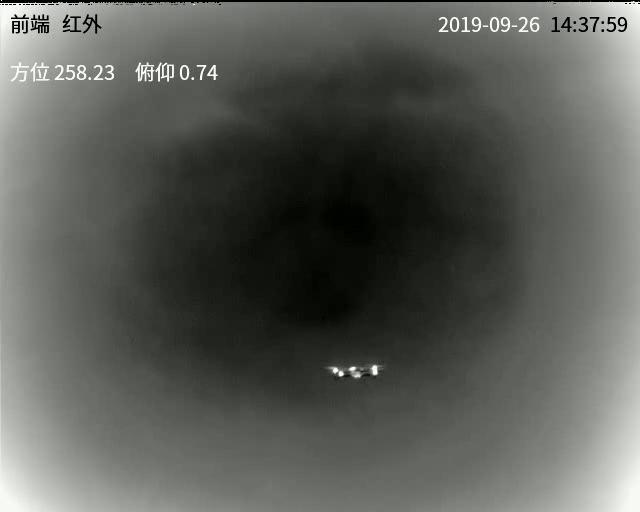DRONE: (328, 362, 382, 380)
